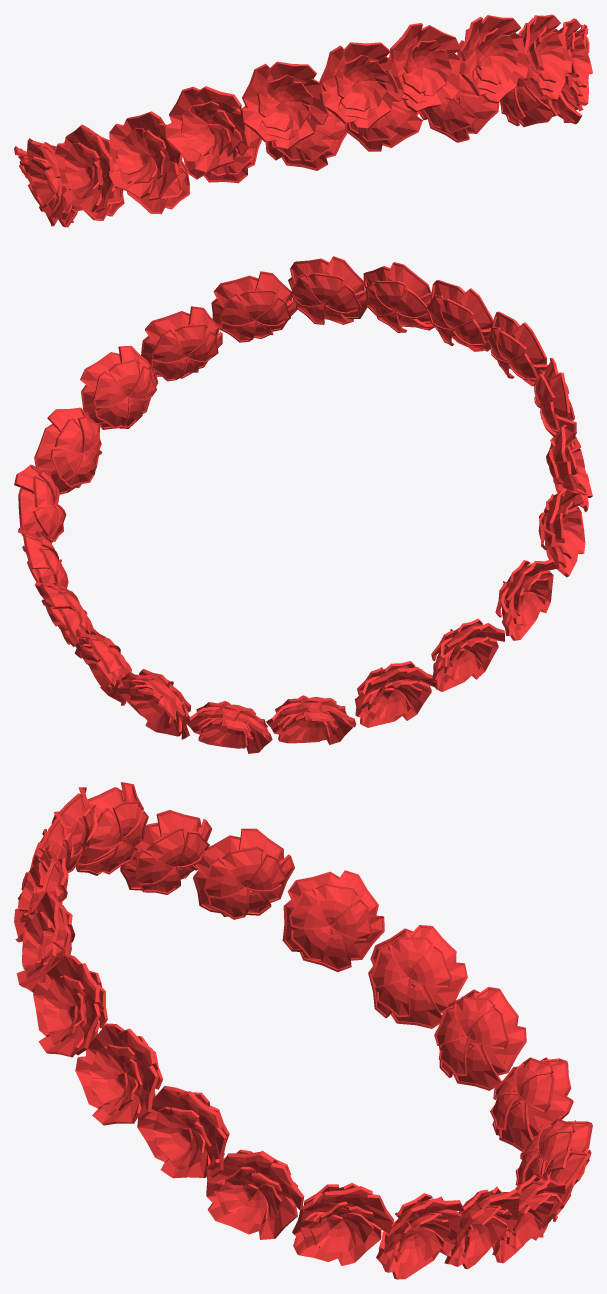
File: HF _Rose_02.fbx
The picture shows the model from 3 angles, top to bottom: view 1: azimuth 30°, elevation 25°; view 2: azimuth 150°, elevation 25°; view 3: azimuth 270°, elevation 25°; orthographic projection. The views are drawn at different scales.
Visible parts, largest first — view 1: 001-Plum blossom-pink677; view 2: 001-Plum blossom-pink677; view 3: 001-Plum blossom-pink677.
Boxes of the visible parts, x1,y1,x2,y2 form: 001-Plum blossom-pink677: [14, 14, 592, 227]; 001-Plum blossom-pink677: [14, 256, 592, 753]; 001-Plum blossom-pink677: [14, 782, 592, 1279].
Bounding box in the file's own units: 42.68 × 25.77 × 35.58.
